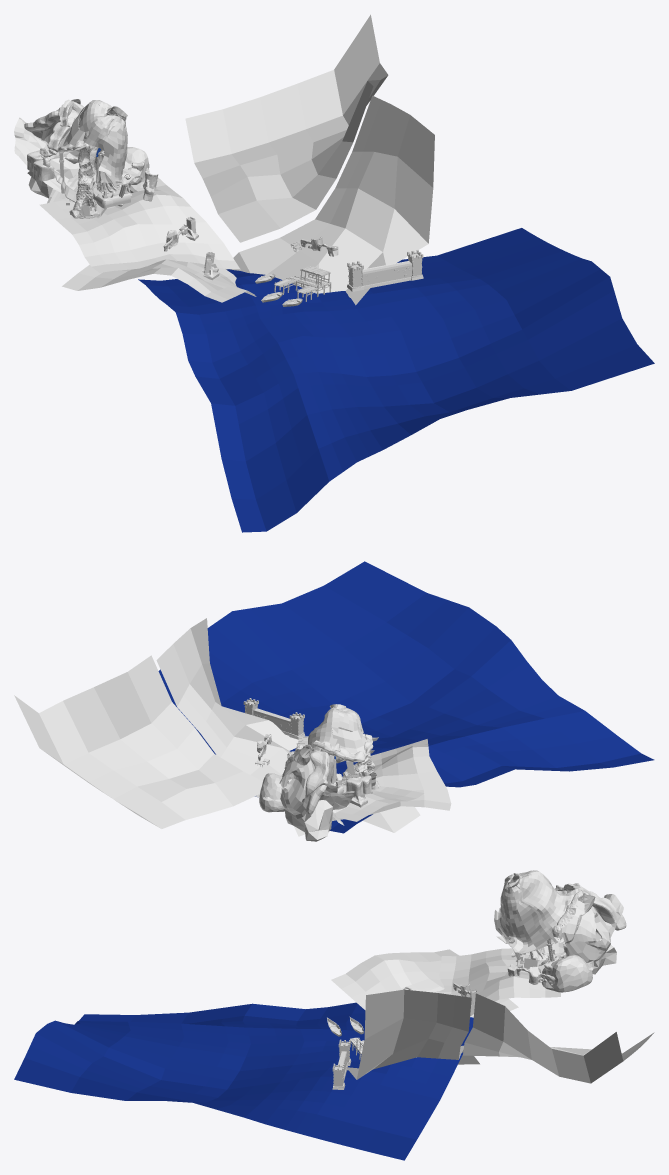
File: Lady.glb
3 views of the same model, one above another, from view 1: azimuth 30°, elevation 25°; view 2: azimuth 150°, elevation 25°; view 3: azimuth 270°, elevation 25° (orthographic). The views are drawn at different scales.
Parts seen in each view (by area): view 1: Plane.005, Plane.002, Plane.018, Plane.001, Plane.004, Cylinder, WallTowers_SecondAge, Port_FirstAge_Level3, old plain big.001, Cave_Platform_I.003, _Plane.015; view 2: Plane.005, Plane.002, Plane.018, Plane.004, Cylinder.001, Plane.001, Cave_Platform_I.003, Cylinder.003, WallTowers_SecondAge, Cylinder.002, Cave_Platform_I.002, Cylinder.004 (+2 smaller); view 3: Plane.005, Plane.018, Plane.002, Plane.004, Plane.001, Cylinder.002, Cylinder.001, Cylinder, Cave_Platform_I.002, _Plane.017, Cylinder.003, WallTowers_SecondAge (+1 smaller).
Boxes of the visible parts, left/top/right/bottom form: Plane.005: left=138, top=228, right=654, bottom=532; Plane.002: left=185, top=14, right=388, bottom=242; Plane.018: left=225, top=95, right=434, bottom=305; Plane.001: left=39, top=177, right=240, bottom=272; Plane.004: left=62, top=259, right=256, bottom=302; Cylinder: left=79, top=103, right=141, bottom=186; WallTowers_SecondAge: left=347, top=250, right=423, bottom=291; Port_FirstAge_Level3: left=274, top=265, right=331, bottom=301; old plain big.001: left=14, top=117, right=68, bottom=194; Cave_Platform_I.003: left=27, top=153, right=79, bottom=198; _Plane.015: left=73, top=162, right=95, bottom=210; Plane.005: left=158, top=561, right=654, bottom=833; Plane.002: left=14, top=655, right=262, bottom=828; Plane.018: left=156, top=618, right=420, bottom=836; Plane.004: left=332, top=739, right=451, bottom=820; Cylinder.001: left=279, top=748, right=314, bottom=818; Plane.001: left=255, top=780, right=423, bottom=821; Cave_Platform_I.003: left=284, top=800, right=332, bottom=841; Cylinder.003: left=302, top=750, right=329, bottom=814; WallTowers_SecondAge: left=243, top=698, right=305, bottom=739; Cylinder.002: left=305, top=704, right=339, bottom=755; Cave_Platform_I.002: left=259, top=773, right=287, bottom=812; Cylinder.004: left=332, top=728, right=369, bottom=755; Plane.005: left=14, top=1002, right=473, bottom=1160; Plane.018: left=345, top=989, right=479, bottom=1079; Plane.002: left=463, top=993, right=654, bottom=1083; Plane.004: left=331, top=949, right=518, bottom=1017; Plane.001: left=436, top=948, right=560, bottom=1016; Cylinder.002: left=511, top=870, right=578, bottom=950; Cylinder.001: left=562, top=900, right=610, bottom=962; Cylinder: left=494, top=870, right=535, bottom=953; Cave_Platform_I.002: left=541, top=954, right=592, bottom=992; _Plane.017: left=552, top=890, right=595, bottom=943; Cylinder.003: left=578, top=886, right=626, bottom=930; WallTowers_SecondAge: left=332, top=1039, right=351, bottom=1089.
Size of the model in its own units: 746 by 365 by 1021.
